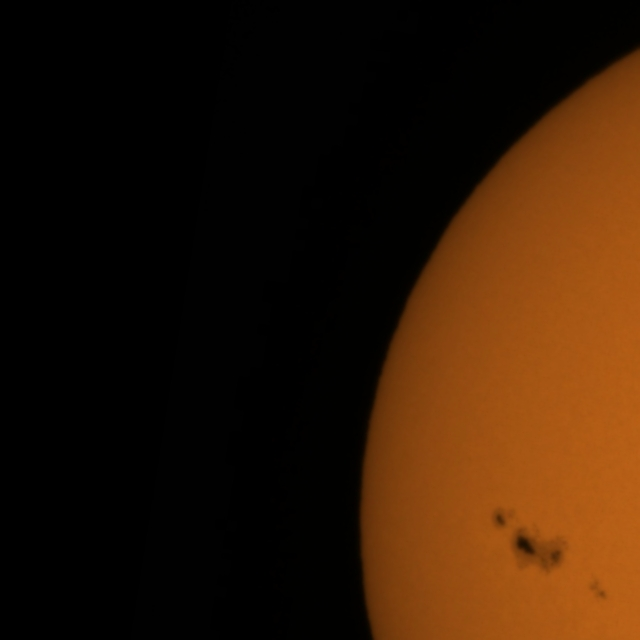sunspot: (508, 528, 567, 580), (490, 505, 517, 532), (586, 577, 610, 603)
